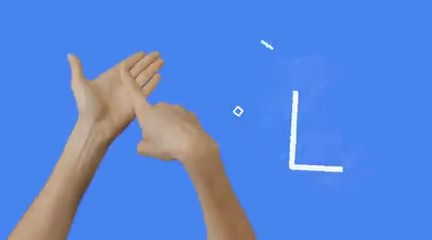L: (55, 42, 224, 169)
